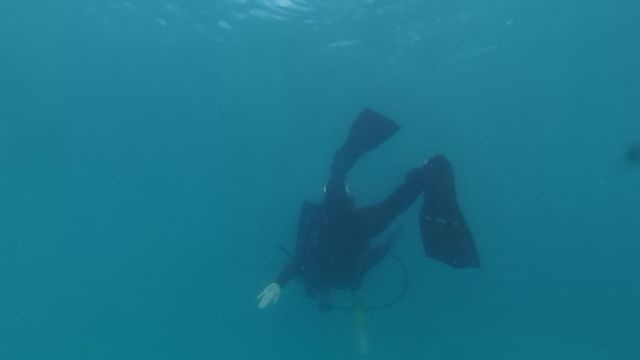Diver: (227, 87, 490, 324)
Hand: (237, 269, 293, 313)
